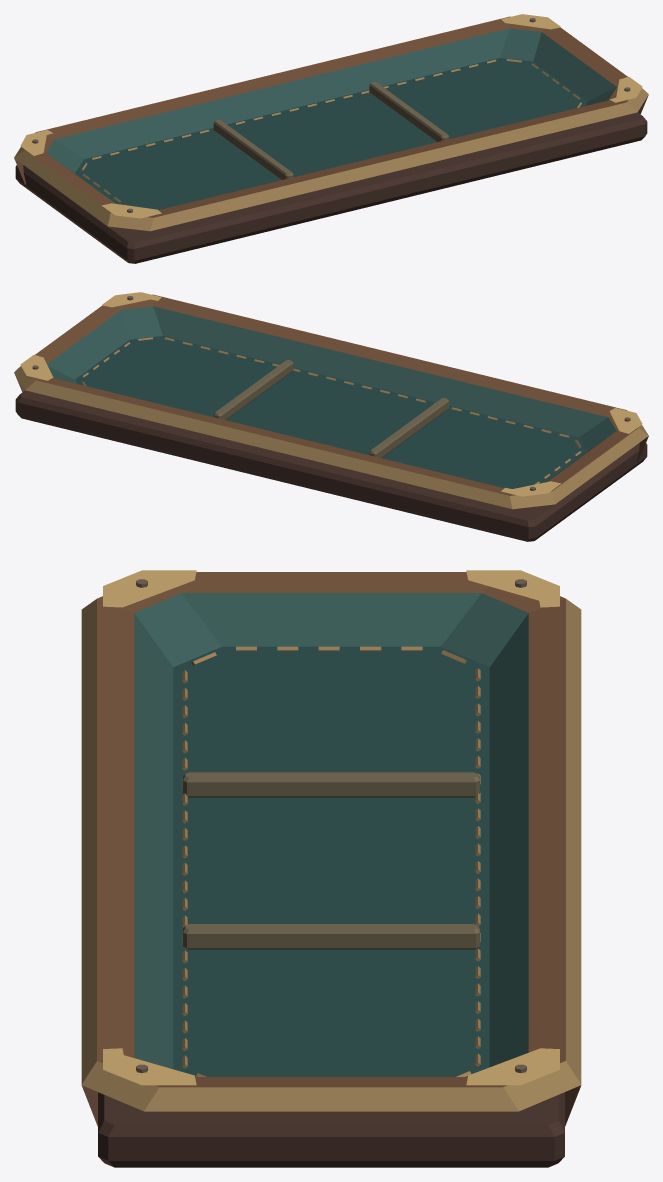
File: change_tray.glb
The picture shows the model from 3 angles, top to bottom: view 1: azimuth 30°, elevation 25°; view 2: azimuth 150°, elevation 25°; view 3: azimuth 270°, elevation 25°; orthographic projection. The views are drawn at different scales.
Parts seen in each view (by area): view 1: change_tray; view 2: change_tray; view 3: change_tray.
Boxes of the visible parts, box(x1,y1,x2,y2) form: change_tray: box(14, 14, 648, 263); change_tray: box(14, 292, 648, 541); change_tray: box(81, 570, 581, 1167).
Size of the model in its own units: 0.64 by 0.052 by 0.256.
